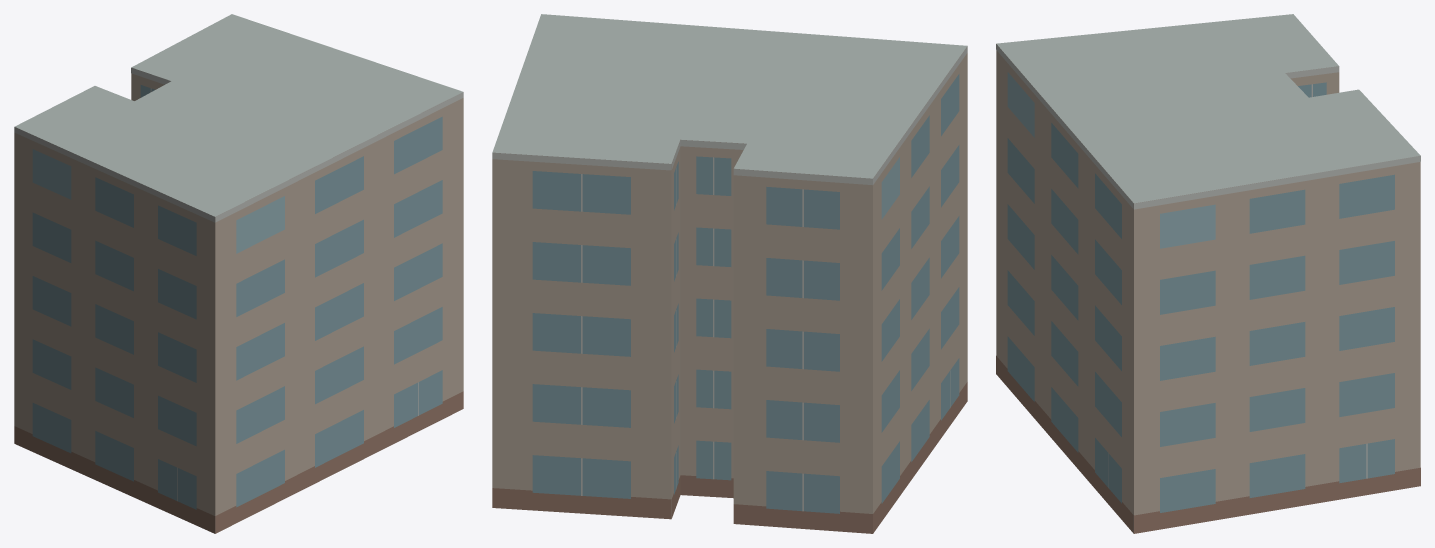
File: survey-upis-32892591.glb
3 views of the same model, side by side, from view 1: azimuth 30°, elevation 25°; view 2: azimuth 150°, elevation 25°; view 3: azimuth 270°, elevation 25° (orthographic). The views are drawn at different scales.
Parts seen in each view (by area): view 1: survey-upis-32892591.tmp; view 2: survey-upis-32892591.tmp; view 3: survey-upis-32892591.tmp.
Part boxes in pixels (box(x1,y1,x2,y2)): survey-upis-32892591.tmp: box(14, 14, 463, 533); survey-upis-32892591.tmp: box(492, 14, 967, 533); survey-upis-32892591.tmp: box(996, 14, 1420, 533).
Size of the model in its own units: 16.24 by 13.2 by 15.38.
